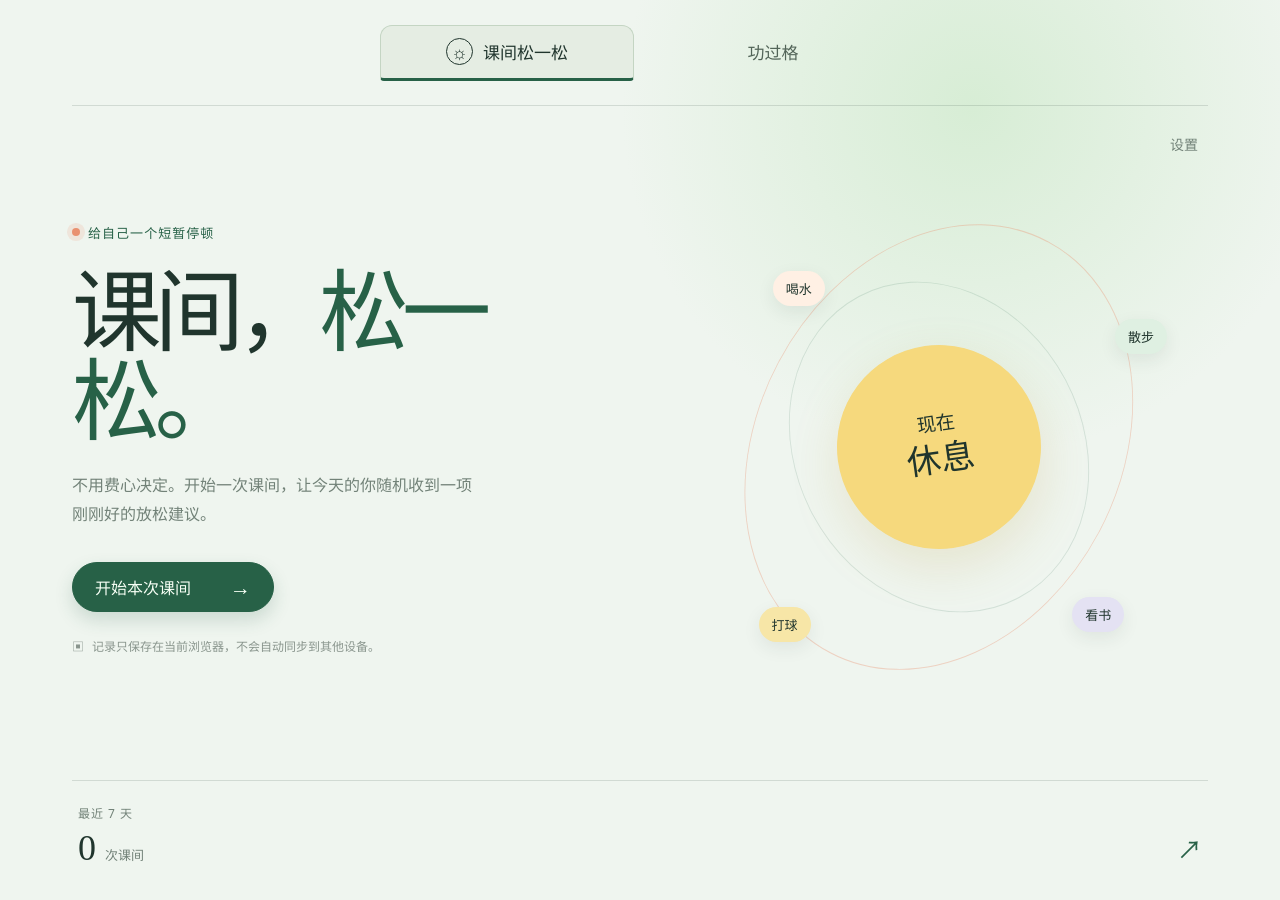
课间核心界面 › lets the user start one break and shows the drawn guidance
The width and height of the screenshot is (1280, 900).
Click the button "开始本次课间 →" at (173, 586), box [72,562,274,612]
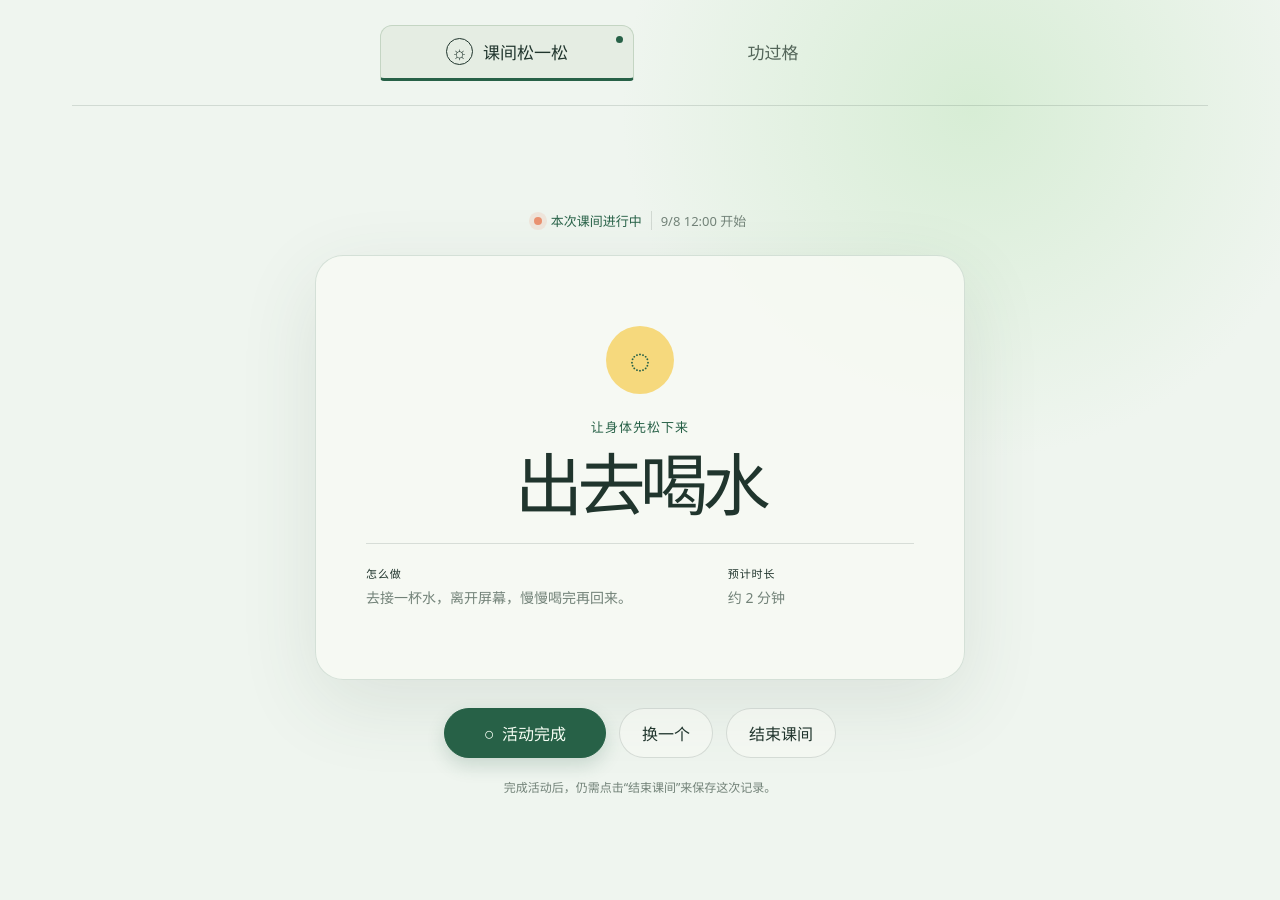
Expected: the heading "出去喝水" is shown, [515,452,765,515]
Expected: the text "去接一杯水，离开屏幕，慢慢喝完再回来。" is shown, [366,588,632,607]
Expected: the text "约 2 分钟" is shown, [728,588,785,607]
